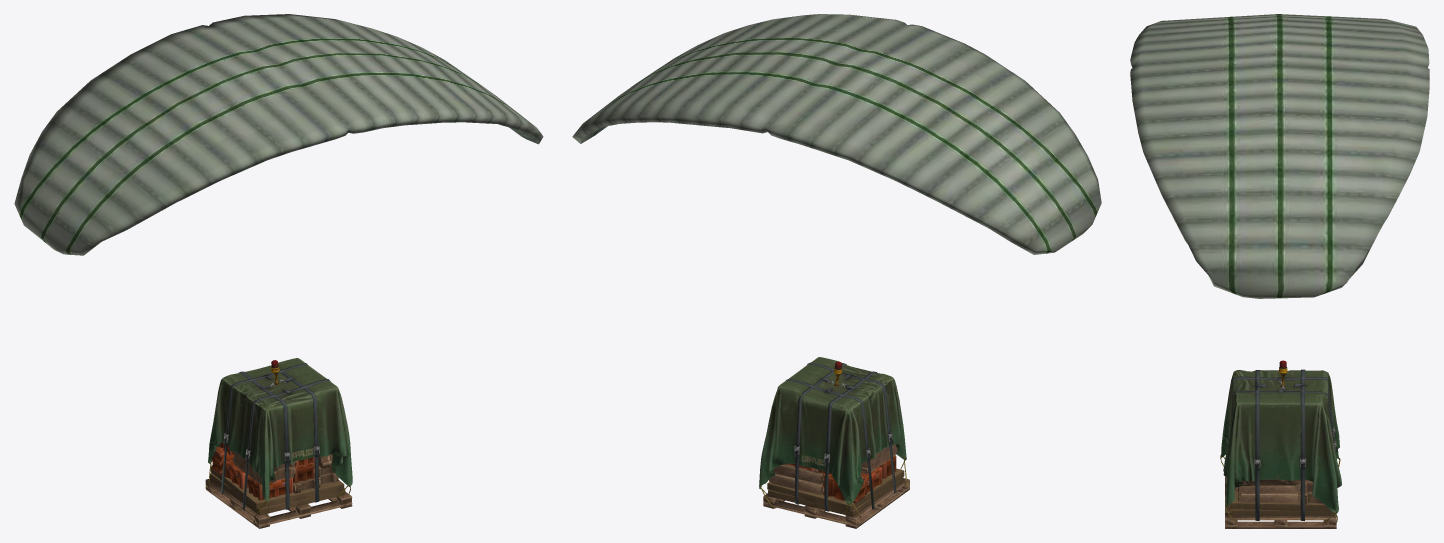
The model's file is supply_drop.glb.
3 renders of one model, left to right at view 1: azimuth 30°, elevation 25°; view 2: azimuth 150°, elevation 25°; view 3: azimuth 270°, elevation 25°, orthographic. The views are drawn at different scales.
Visible parts, largest first — view 1: parachute, SupplyDrop_LOD0; view 2: parachute, SupplyDrop_LOD0; view 3: parachute, SupplyDrop_LOD0.
Part boxes in pixels (<box>): parachute: <box>14,14,543,255</box>; SupplyDrop_LOD0: <box>205,358,352,528</box>; parachute: <box>572,14,1101,254</box>; SupplyDrop_LOD0: <box>759,357,909,528</box>; parachute: <box>1130,14,1429,298</box>; SupplyDrop_LOD0: <box>1220,369,1341,528</box>.
Bounding box in the file's own units: 11.25 × 9.83 × 5.9.
Materials: 3 (3 with a texture image).
